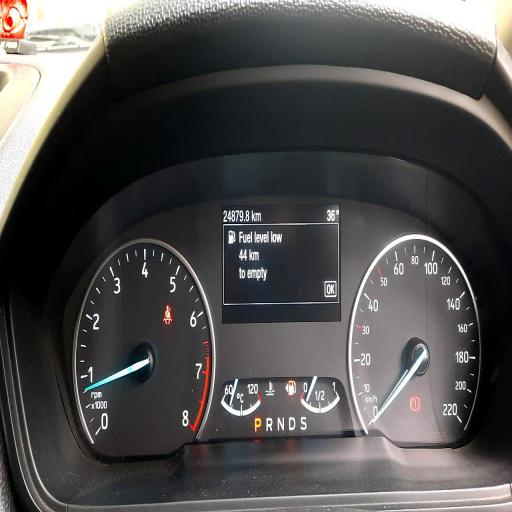belt: (163, 304, 172, 326)
brake_system_fault: (410, 396, 420, 412)
tachometer: (73, 236, 215, 454)
